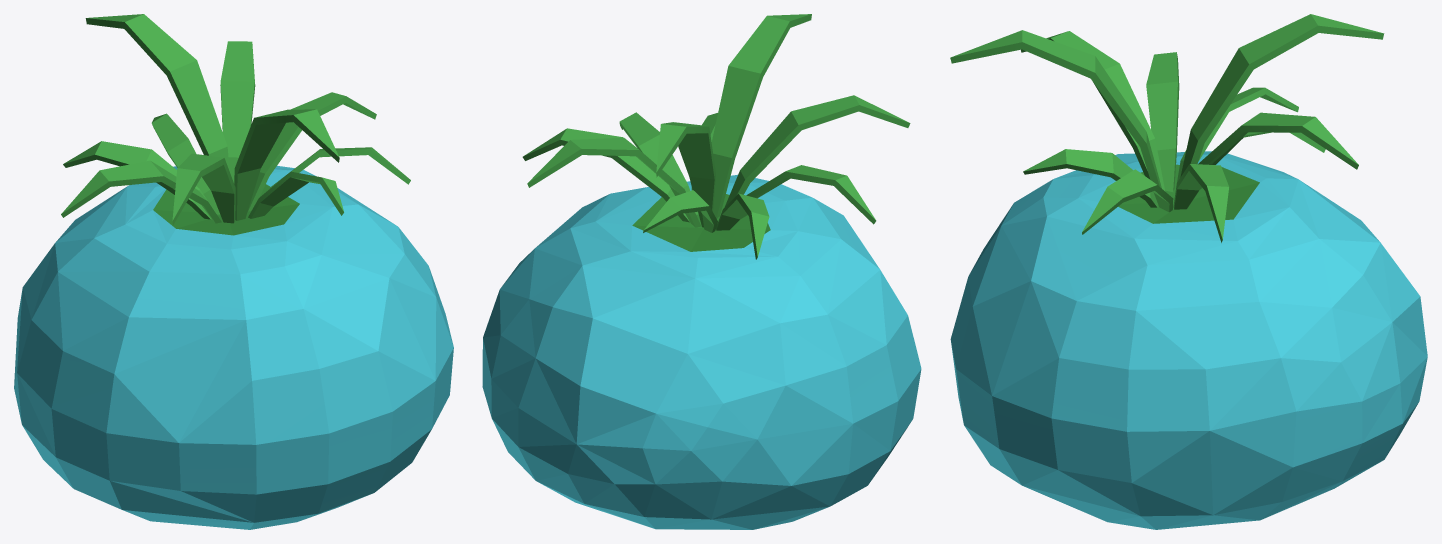
The model's file is fantasy_plant_062.fbx.
The picture shows the model from 3 angles, left to right: view 1: azimuth 30°, elevation 25°; view 2: azimuth 150°, elevation 25°; view 3: azimuth 270°, elevation 25°; orthographic projection. The views are drawn at different scales.
Visible parts, largest first — view 1: fantasy_plant.062; view 2: fantasy_plant.062; view 3: fantasy_plant.062.
Boxes of the visible parts, x1=… form: fantasy_plant.062: x1=14, y1=14, x2=453, y2=529; fantasy_plant.062: x1=482, y1=14, x2=921, y2=529; fantasy_plant.062: x1=950, y1=14, x2=1427, y2=529.
Bounding box in the file's own units: 122 × 130 × 126.
Materials: 1 (1 with a texture image).
